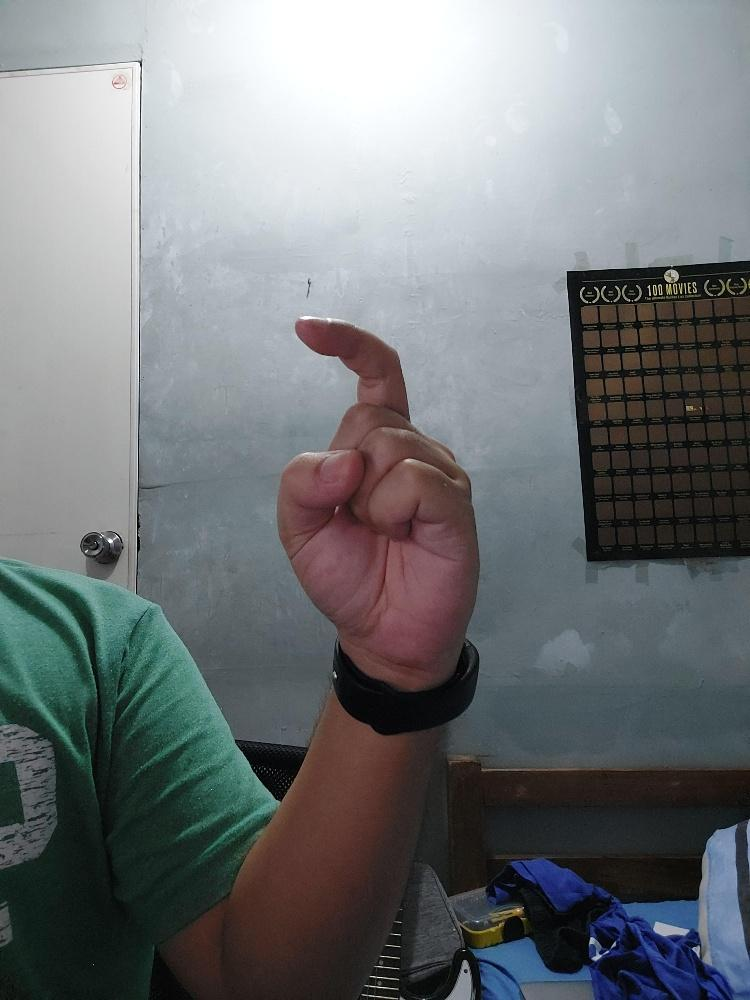x: (273, 310, 481, 670)
